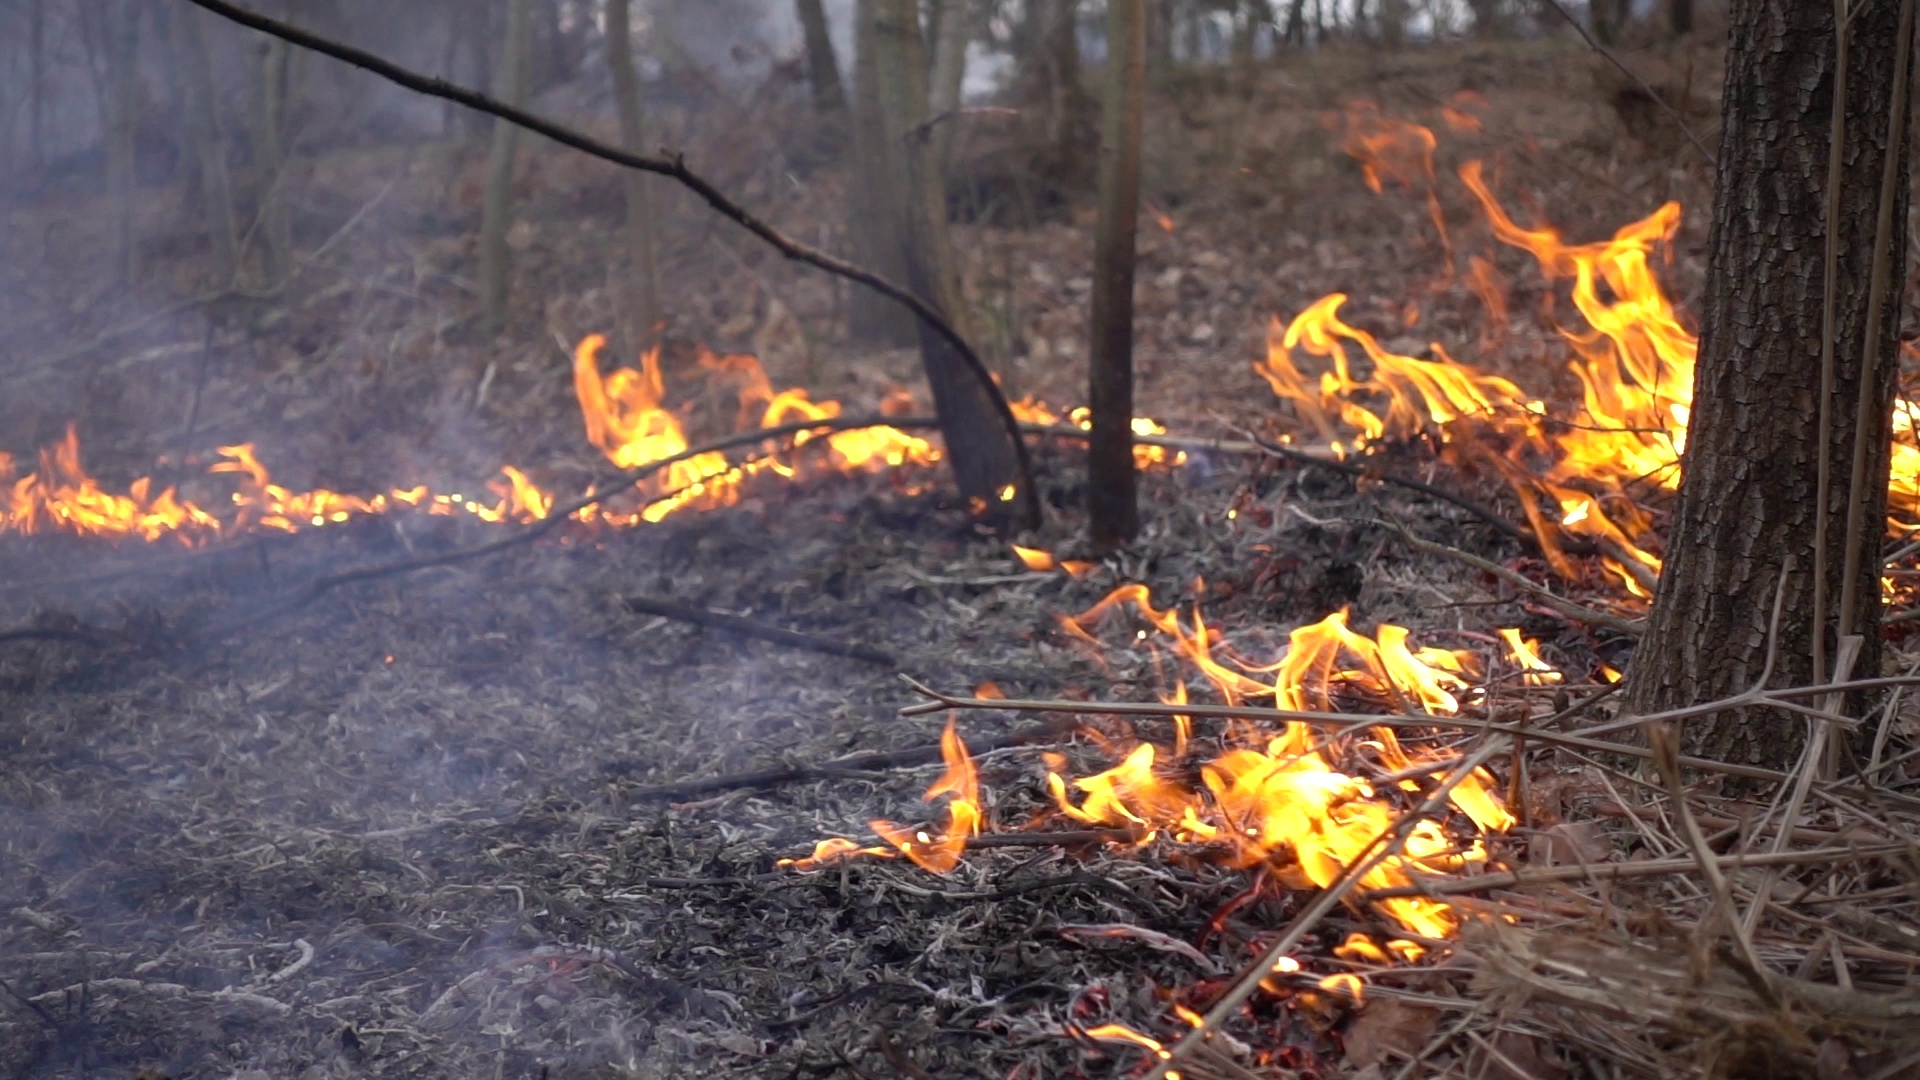fire: (1039, 585, 1515, 973), (1254, 214, 1701, 496), (568, 338, 903, 521), (1, 433, 196, 546), (222, 443, 363, 527), (491, 463, 551, 527), (1890, 400, 1920, 516)
